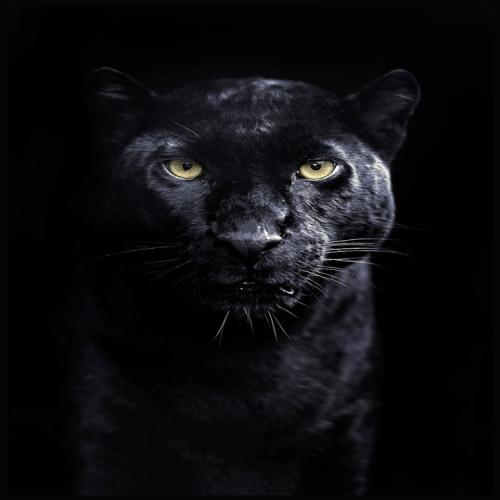panther-endangered: (66, 59, 430, 495)
